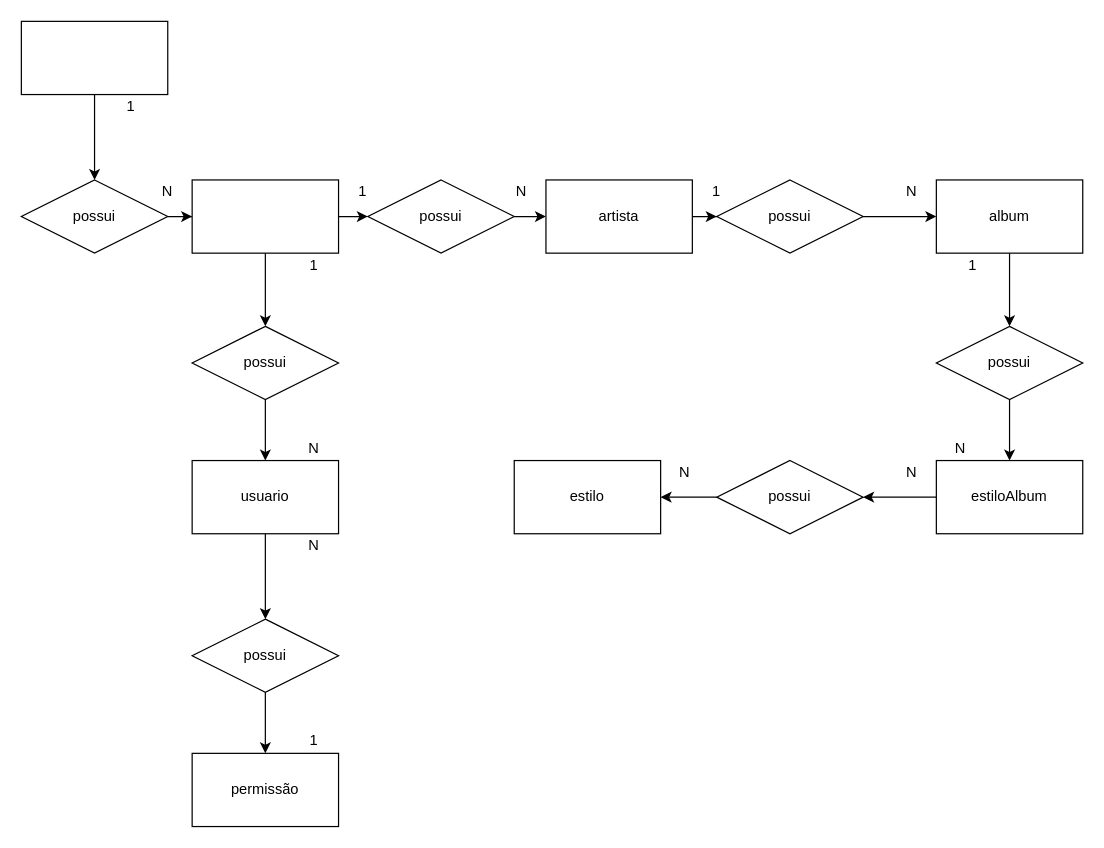
Some shapes in this 1104 by 848 pixel diagram are drawn without their labels. The centre of each missing label's shape, as x and y in pixels:
cadastro: point 265,216
empresa: point 94,57
